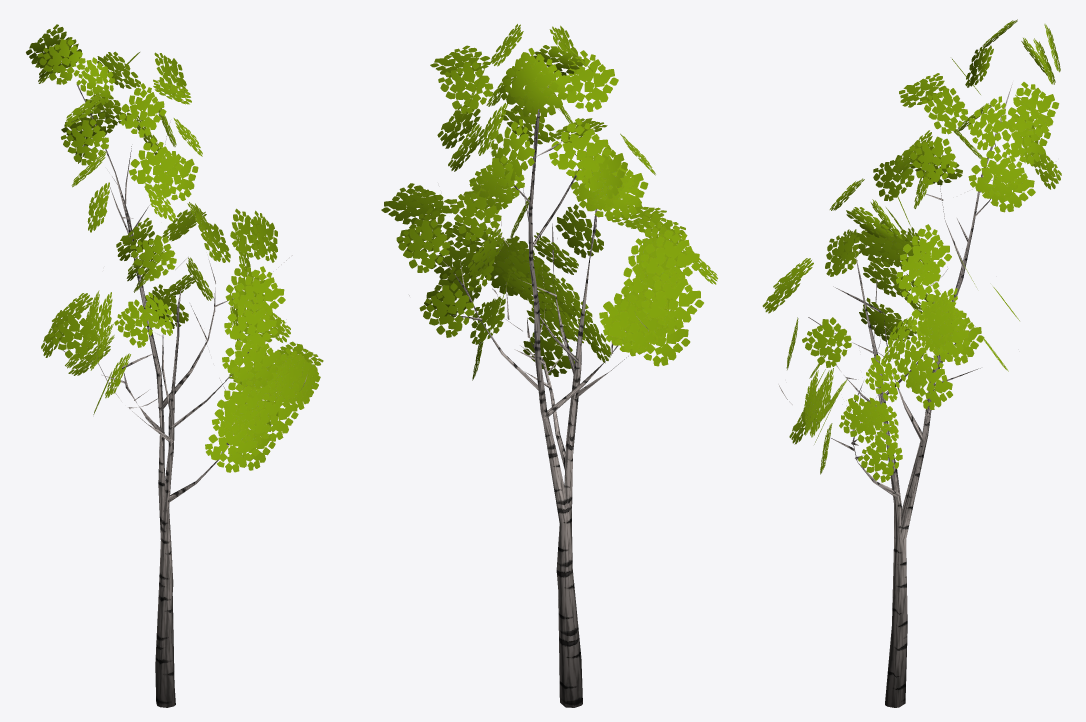
The model's file is tree-health-1-mature.glb.
The picture shows the model from 3 angles, left to right: view 1: azimuth 30°, elevation 25°; view 2: azimuth 150°, elevation 25°; view 3: azimuth 270°, elevation 25°; orthographic projection. The views are drawn at different scales.
Parts seen in each view (by area): view 1: Birch_1; view 2: Birch_1; view 3: Birch_1.
Part boxes in pixels (x1,y1,x2,y2): Birch_1: (26,24,323,707); Birch_1: (381,24,717,707); Birch_1: (762,19,1061,707).
Bounding box in the file's own units: 2.42 × 5.31 × 2.27.
Materials: 2 (2 with a texture image).
